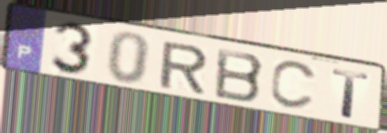0: (102, 30, 155, 88)
3: (46, 21, 99, 79)
B: (212, 46, 266, 105)
C: (268, 60, 321, 113)
R: (157, 40, 211, 96)
T: (330, 67, 372, 122)
